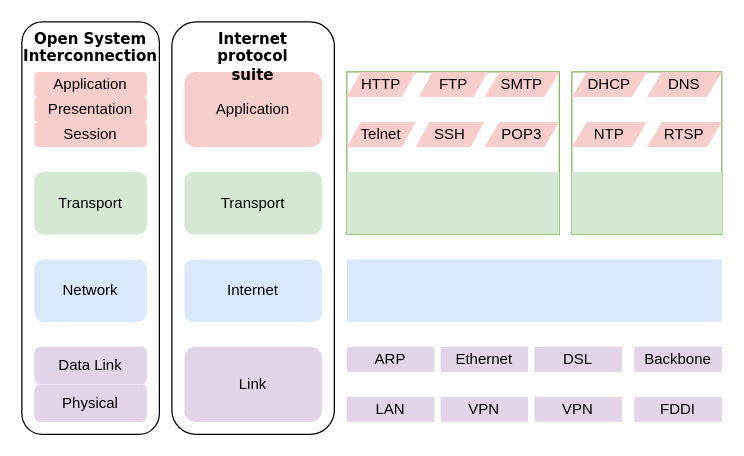
Image size: 744x456. Some labels were removed from this diagram. The shapes that lost their labels are listed below. From the top down, each one's centre as x and y in pixels, then its label:
At pixel 452 202: "TCP".
At pixel 646 202: "UDP".
At pixel 533 290: "IP".
